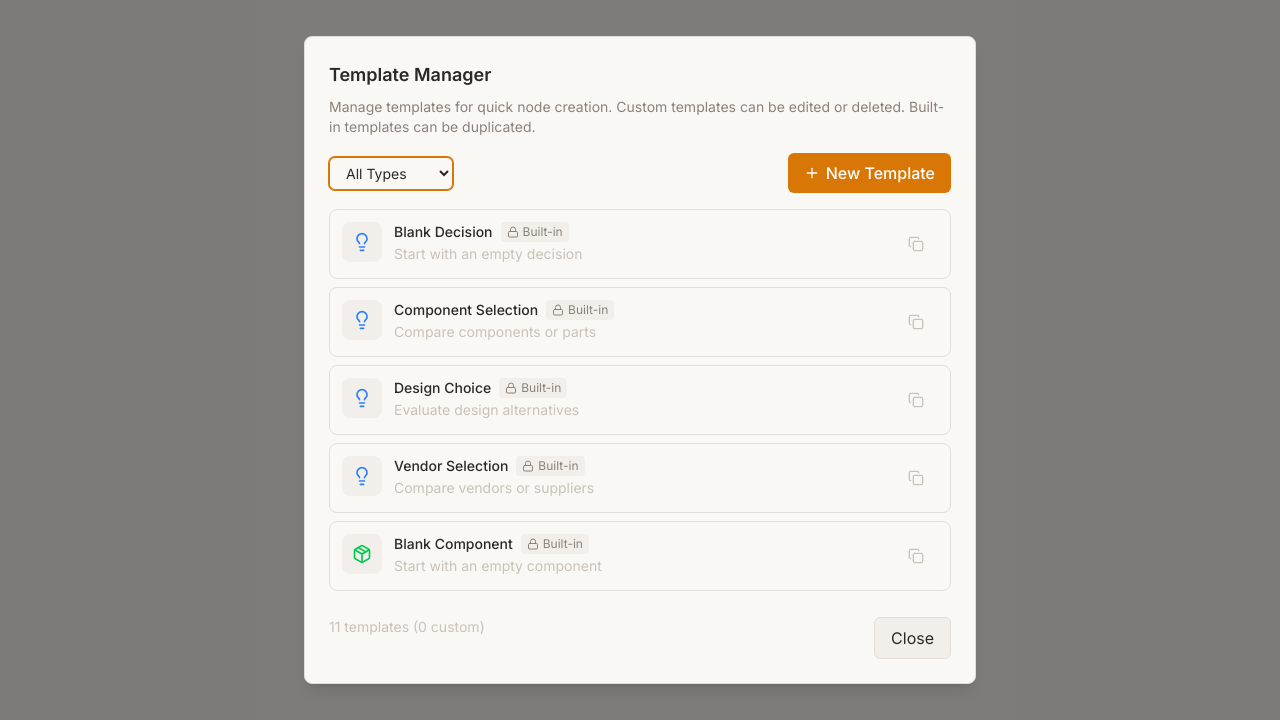
Test: TemplateManager › creating templates › creates a new custom template
Note: Open create dialog
Click the button "New Template".
click(869, 173)  # box 788,153 -> 951,193
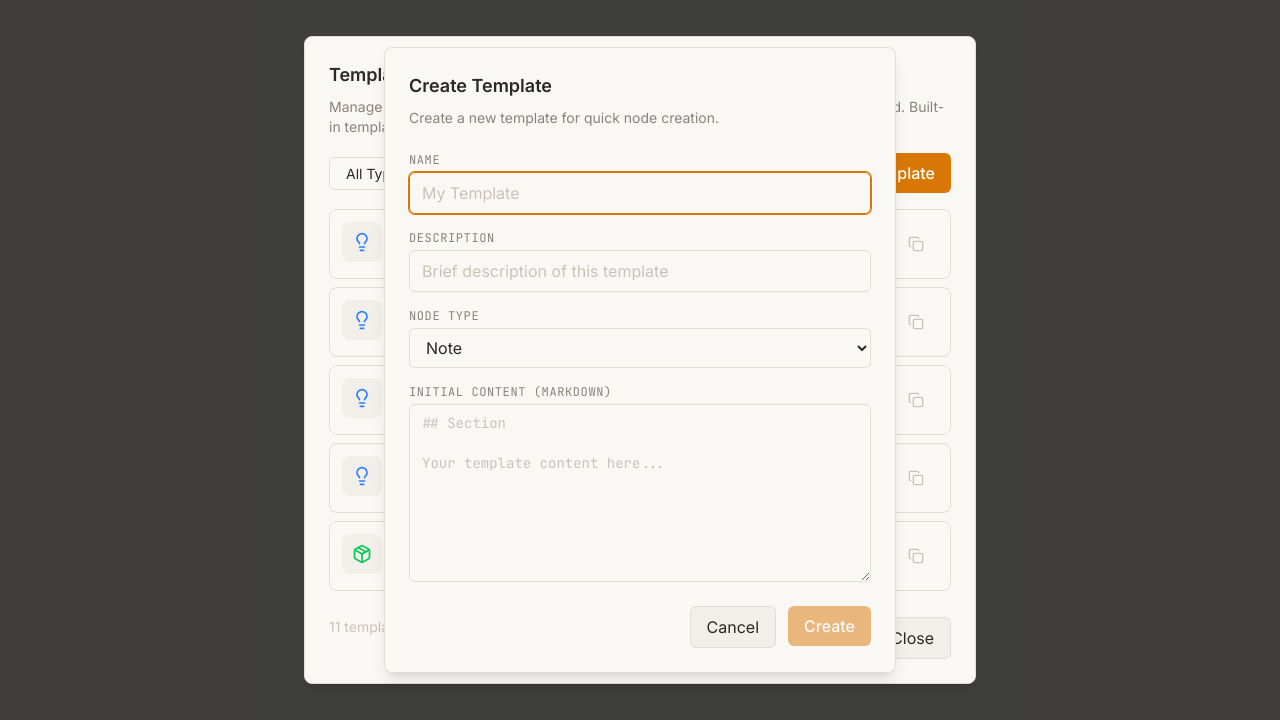
Note: Fill form
Type "New Test Template" into the field labelled "Name".
click(640, 193); type("New Test Template")  # box 409,172 -> 871,214
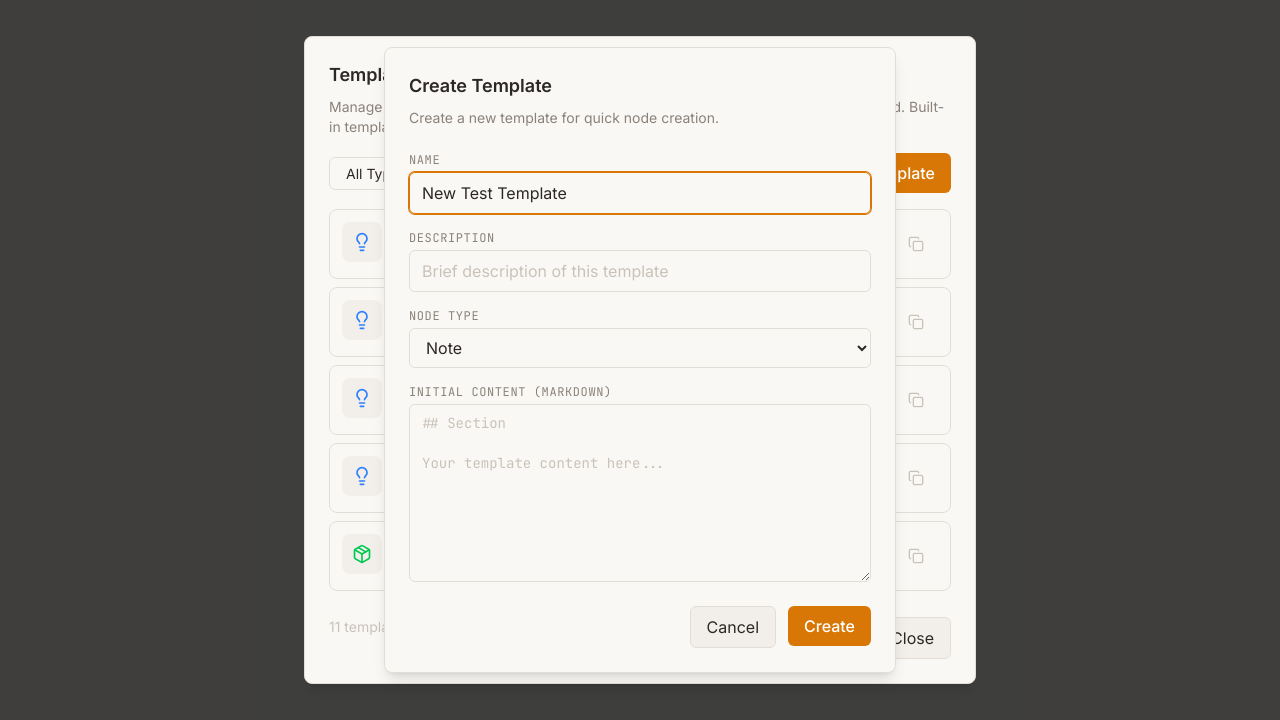
Type "Test description" into the field labelled "Description".
click(640, 271); type("Test description")  # box 409,250 -> 871,292
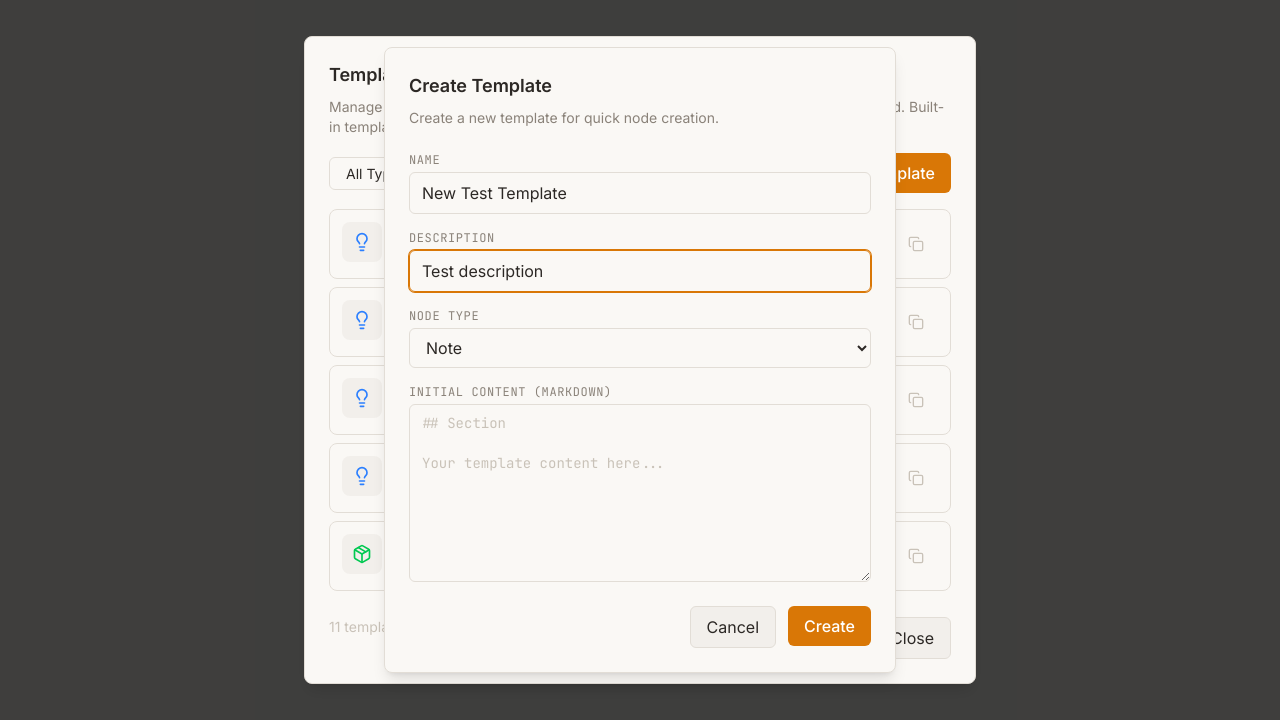
Type "## Test Content" into the text box labelled "Initial Content (Markdown)".
click(640, 493); type("## Test Content")  # box 409,404 -> 871,582
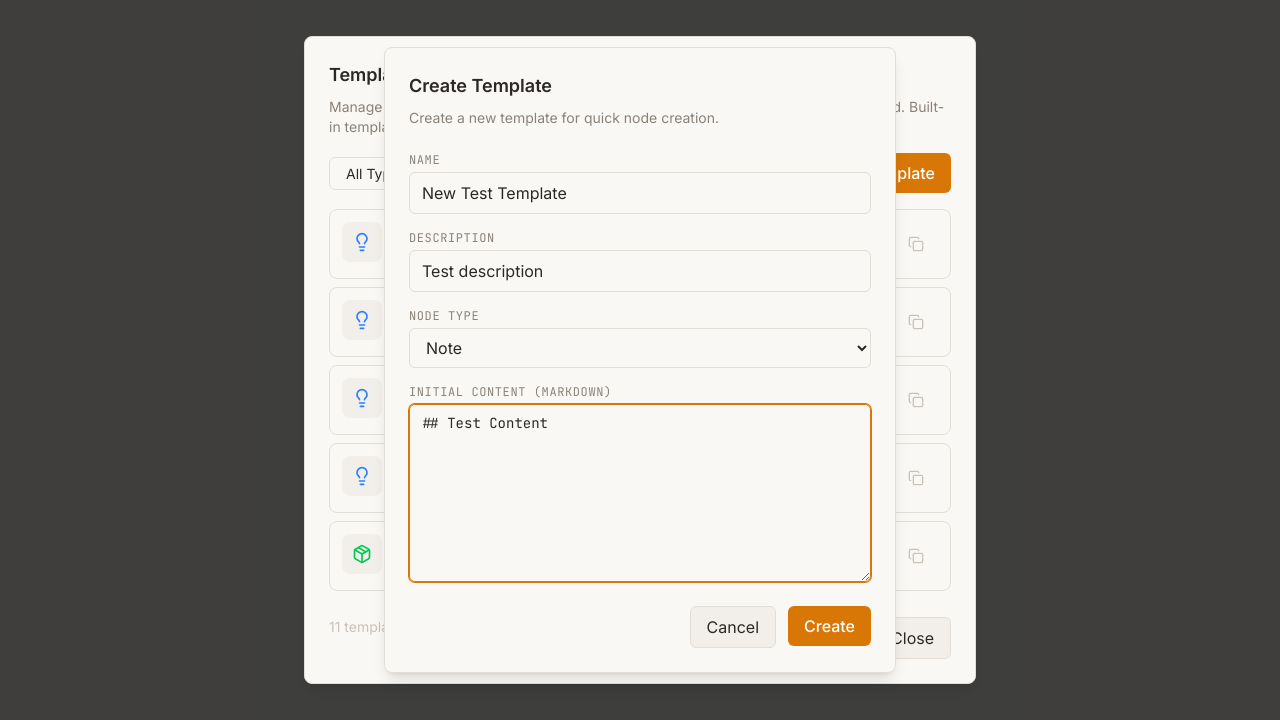
Click the button "Create".
click(830, 626)  # box 788,606 -> 871,646
(page scrolled)
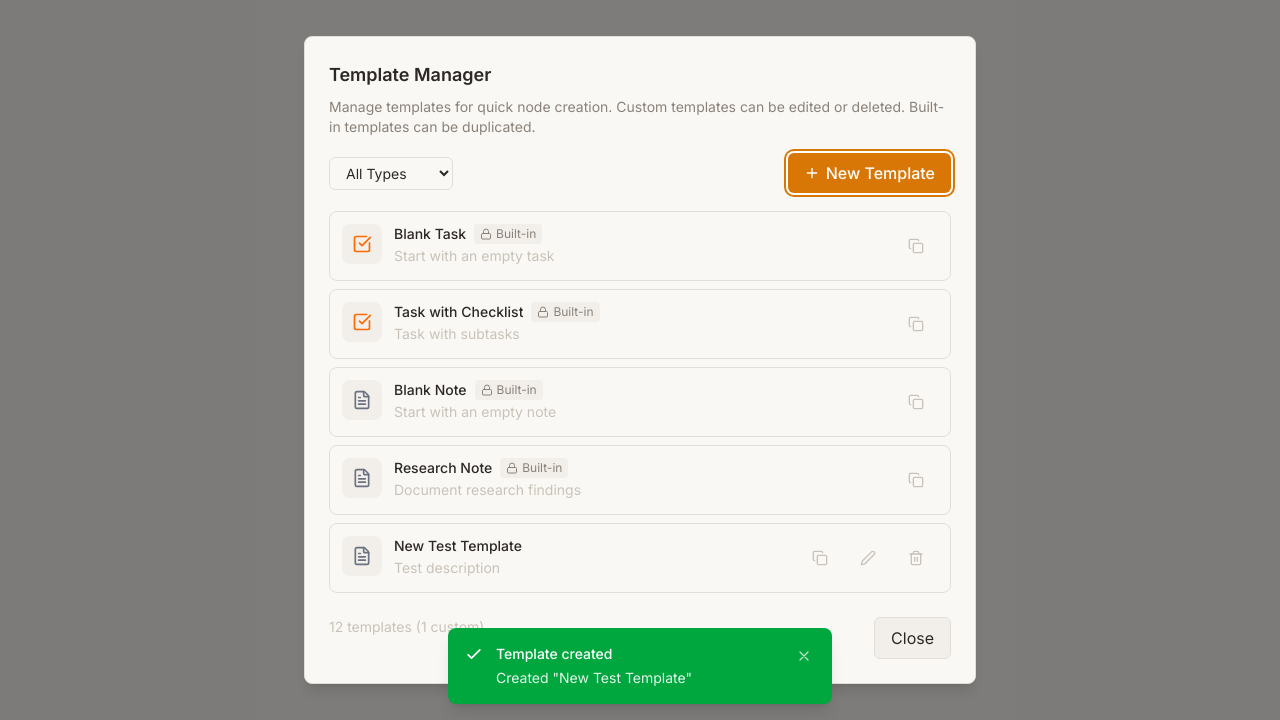
Expected: the heading "New Test Template" is shown, 394,536 -> 522,556
